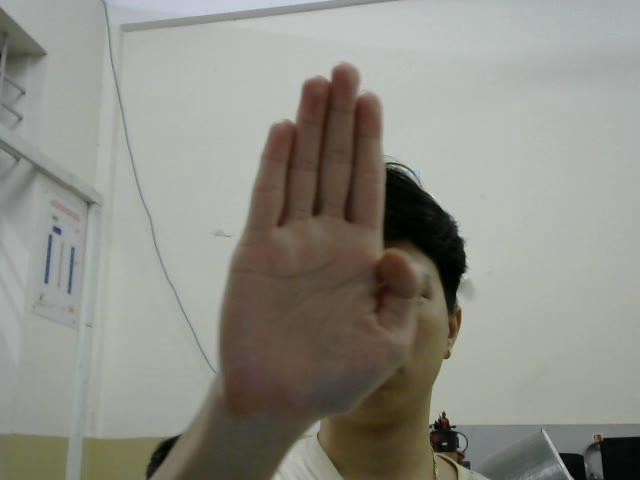B: (214, 60, 417, 415)
